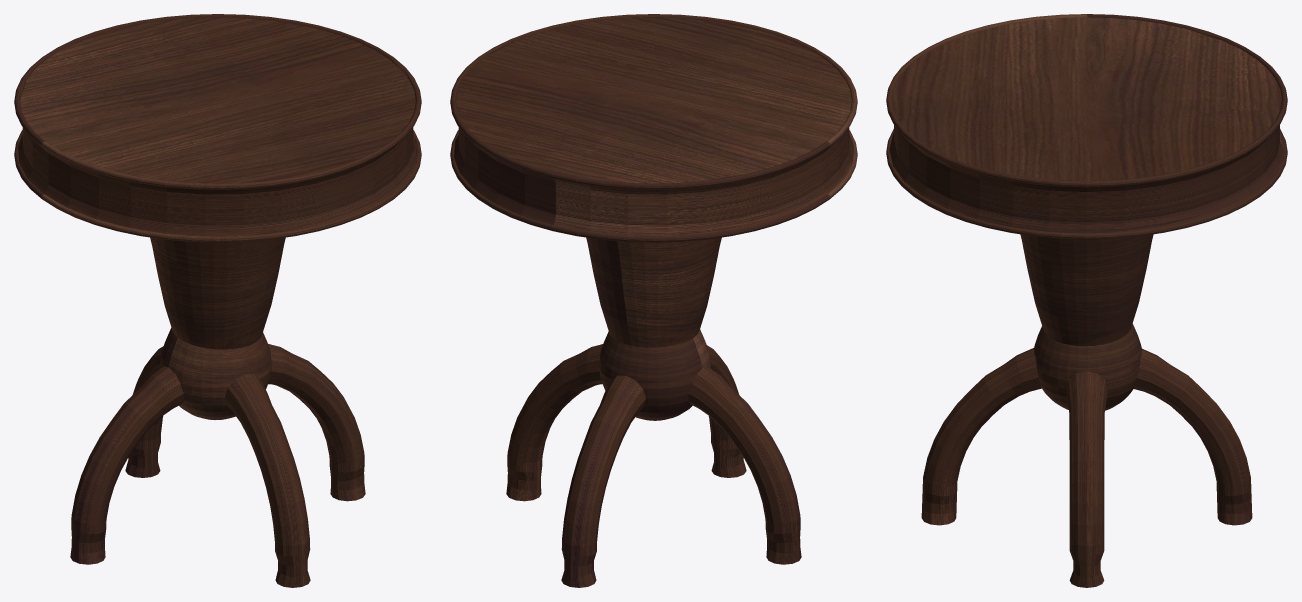
Rendered from SmallCircleTable.glb.
3 renders of one model, left to right at view 1: azimuth 30°, elevation 25°; view 2: azimuth 150°, elevation 25°; view 3: azimuth 270°, elevation 25°, orthographic.
Parts seen in each view (by area): view 1: Small Circle Table; view 2: Small Circle Table; view 3: Small Circle Table.
Boxes of the visible parts, x1,y1,x2,y2 form: Small Circle Table: (14,14,421,587); Small Circle Table: (450,14,857,587); Small Circle Table: (886,14,1287,587).
Bounding box in the file's own units: 2.71 × 3.13 × 2.71.
1 material, 1 textured.
